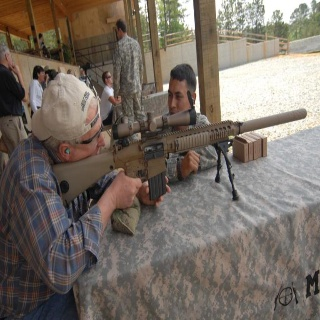rifle: (50, 106, 308, 204)
